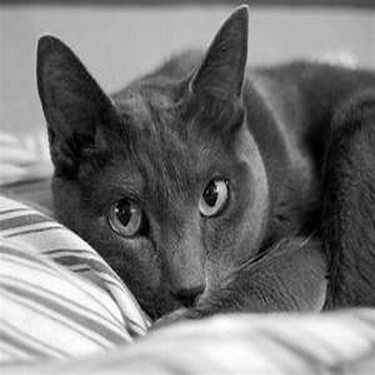cat: (37, 6, 371, 322)
